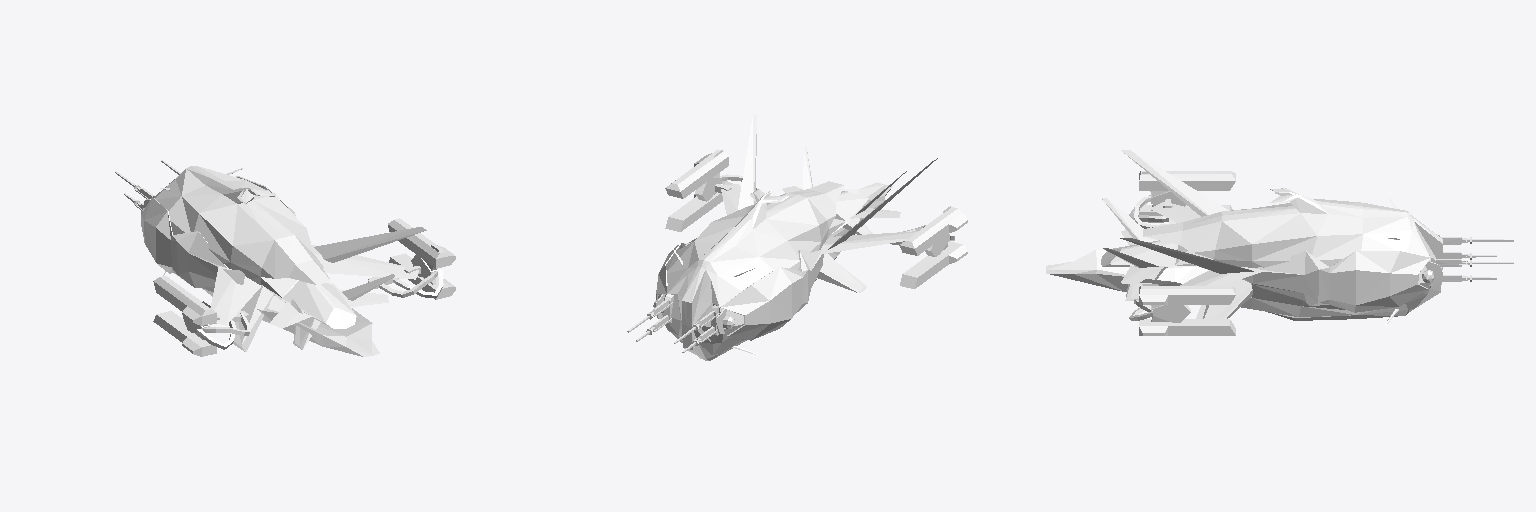
The model's file is outcast.obj.
The picture shows the model from 3 angles: view 1: azimuth 30°, elevation 25°; view 2: azimuth 150°, elevation 25°; view 3: azimuth 270°, elevation 25°; orthographic projection.
Parts seen in each view (by area): view 1: outcast; view 2: outcast; view 3: outcast.
Part boxes in pixels (bbox=[...]): outcast: bbox=[115, 160, 455, 356]; outcast: bbox=[627, 114, 967, 360]; outcast: bbox=[1046, 150, 1513, 335].
Bounding box in the file's own units: 6.2 × 2.87 × 9.53.